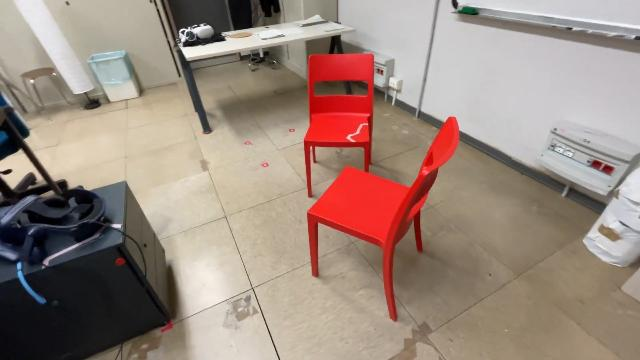Chair: (304, 110, 464, 325), (298, 49, 380, 203)
Lamp: (9, 0, 106, 112)
Stool: (18, 66, 76, 124)
